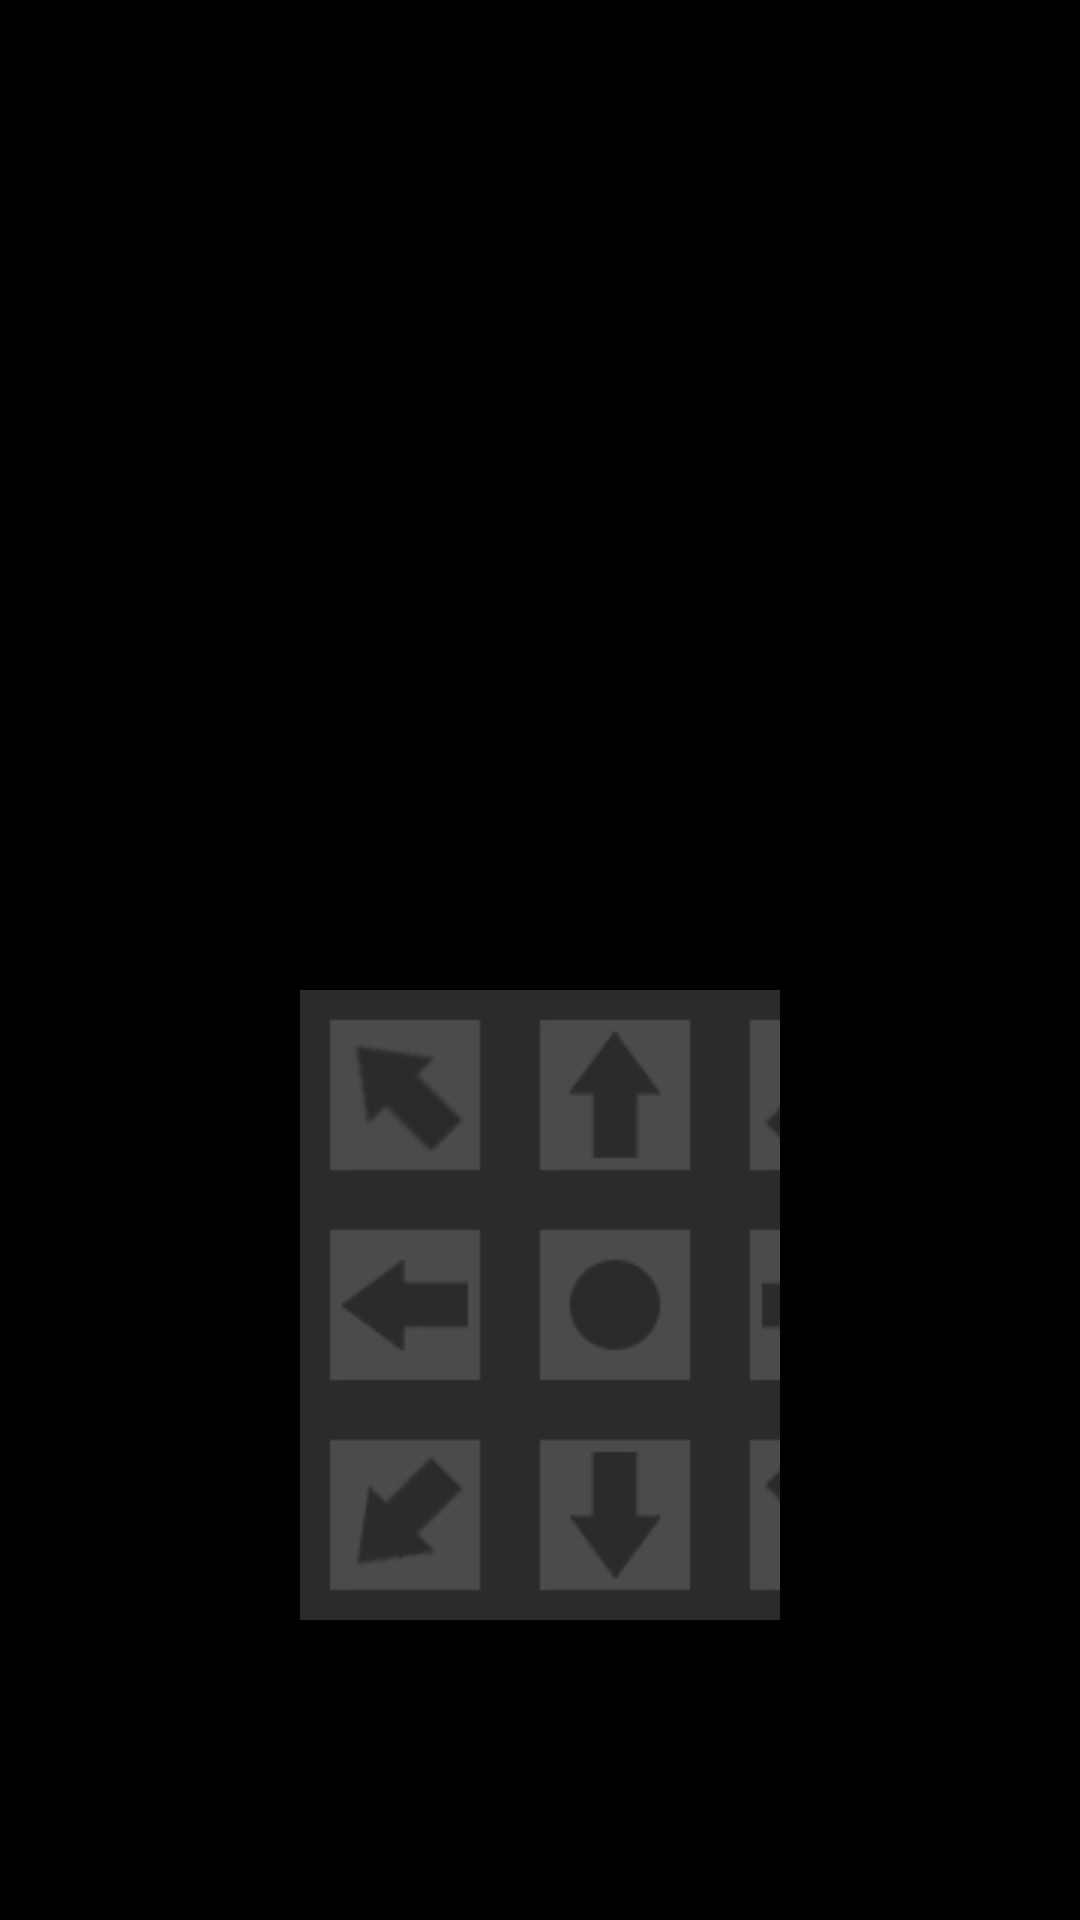

Screen size 1080px×1920px. Icon name, then its box in pixels as (x1, y1, x2, y2):
arrow down: (541, 1441, 689, 1589)
arrow down left: (331, 1441, 479, 1589)
arrow left: (331, 1231, 479, 1379)
arrow up: (541, 1021, 689, 1169)
arrow up left: (331, 1021, 479, 1169)
mid: (541, 1231, 689, 1379)
